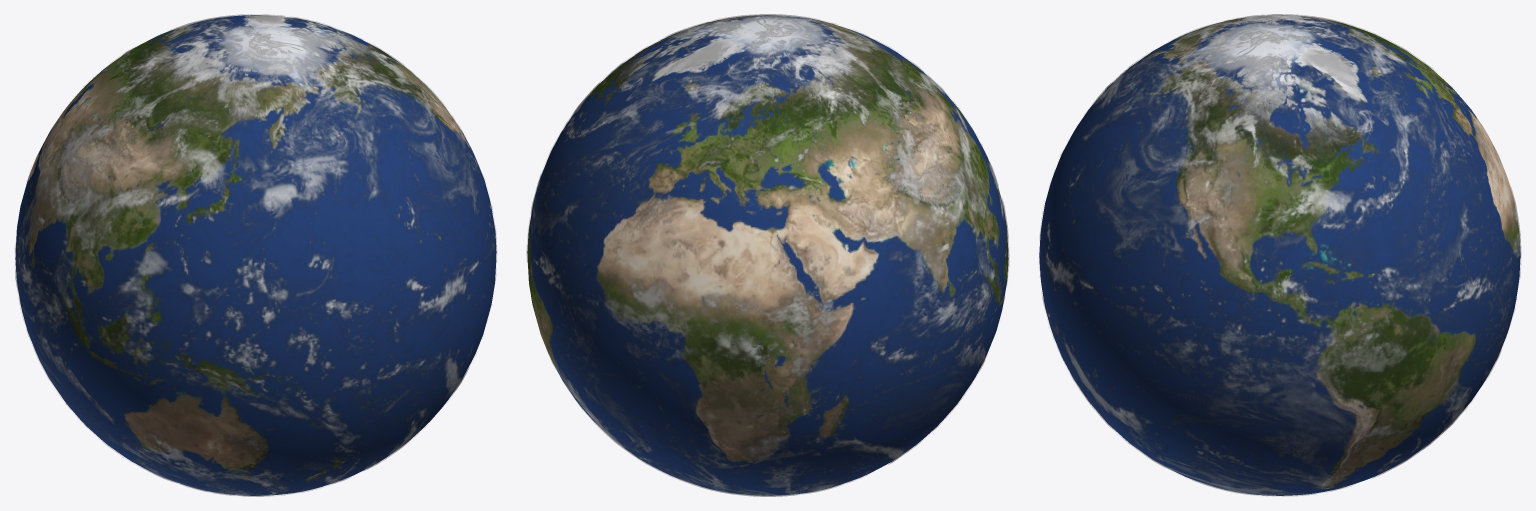
Rendered from earth_2k.glb.
The picture shows the model from 3 angles, left to right: view 1: azimuth 30°, elevation 25°; view 2: azimuth 150°, elevation 25°; view 3: azimuth 270°, elevation 25°; orthographic projection.
Visible parts, largest first — view 1: earth_surface, earth_clouds; view 2: earth_surface, earth_clouds; view 3: earth_surface, earth_clouds.
Part boxes in pixels (x1,y1,x2,y2): earth_surface: [15, 15, 496, 495]; earth_clouds: [14, 14, 496, 496]; earth_surface: [527, 15, 1008, 495]; earth_clouds: [526, 14, 1009, 496]; earth_surface: [1039, 15, 1520, 495]; earth_clouds: [1039, 14, 1521, 496].
Size of what is drawn, in the model's own units: 2.01 by 2.01 by 2.01.
2 materials, 2 textured.
